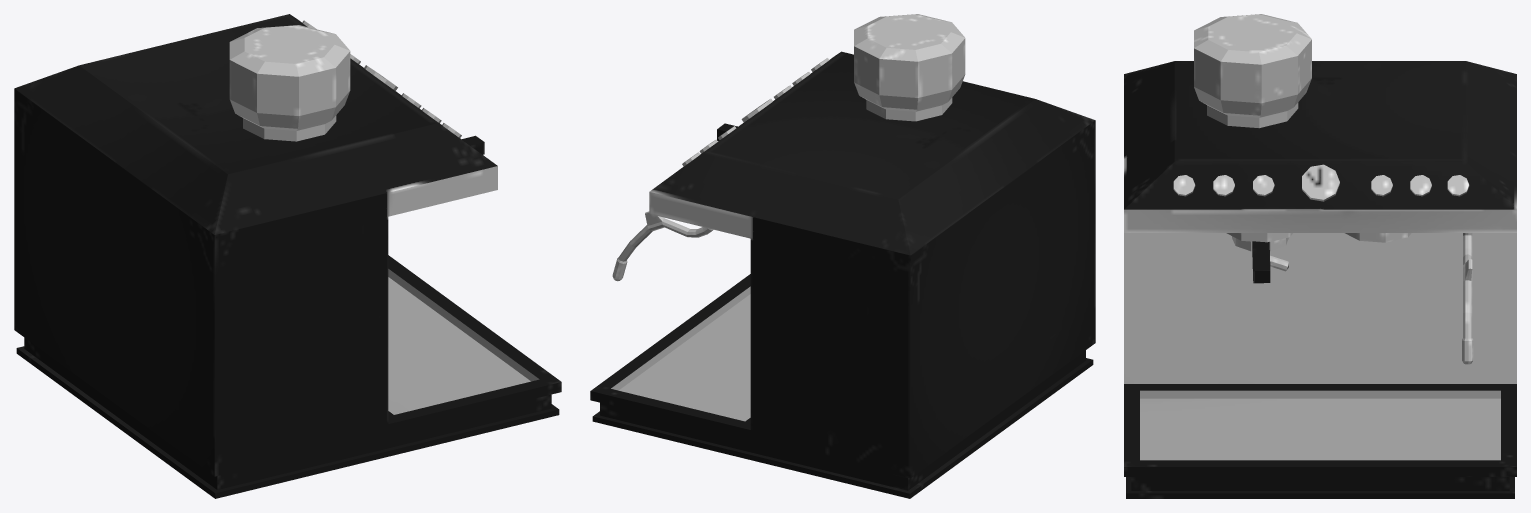
Rendered from coffeemachine.fbx.
3 views of the same model, side by side, from view 1: azimuth 30°, elevation 25°; view 2: azimuth 150°, elevation 25°; view 3: azimuth 270°, elevation 25° (orthographic). The views are drawn at different scales.
Visible parts, largest first — view 1: Plane; view 2: Plane; view 3: Plane.
Boxes of the visible parts, x1=… form: Plane: x1=14, y1=14, x2=561, y2=498; Plane: x1=590, y1=14, x2=1095, y2=498; Plane: x1=1124, y1=14, x2=1516, y2=498.
Size of the model in its own units: 95.34 by 98.05 by 95.19.
